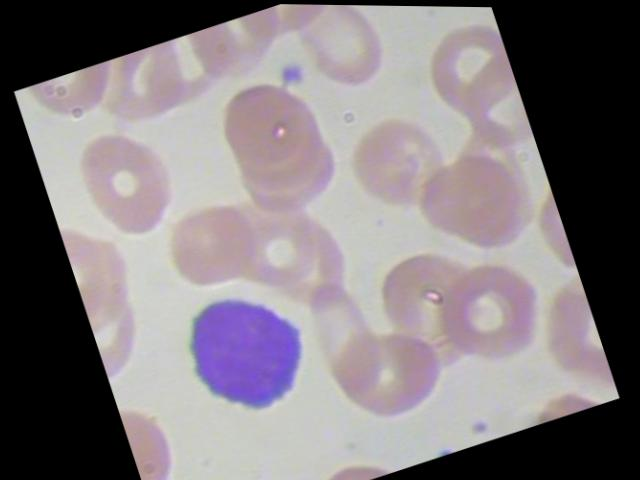Platelets: (270, 52, 313, 95)
Red Blood Cells: (396, 129, 548, 276), (424, 243, 565, 391), (63, 110, 191, 251), (335, 89, 463, 230), (206, 57, 336, 185), (152, 179, 282, 307), (325, 308, 459, 432), (94, 35, 205, 136), (29, 57, 135, 143)
White Blood Cells: (167, 268, 338, 437)
